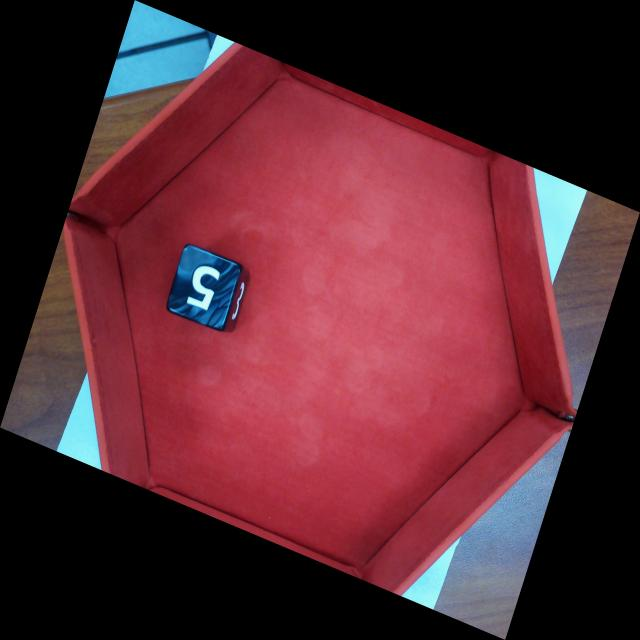dice: (170, 246, 239, 327)
